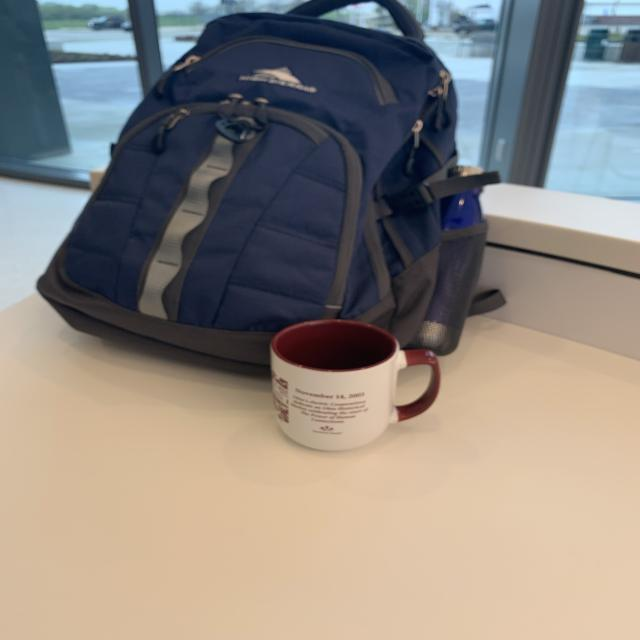Cup: (267, 315, 448, 459)
